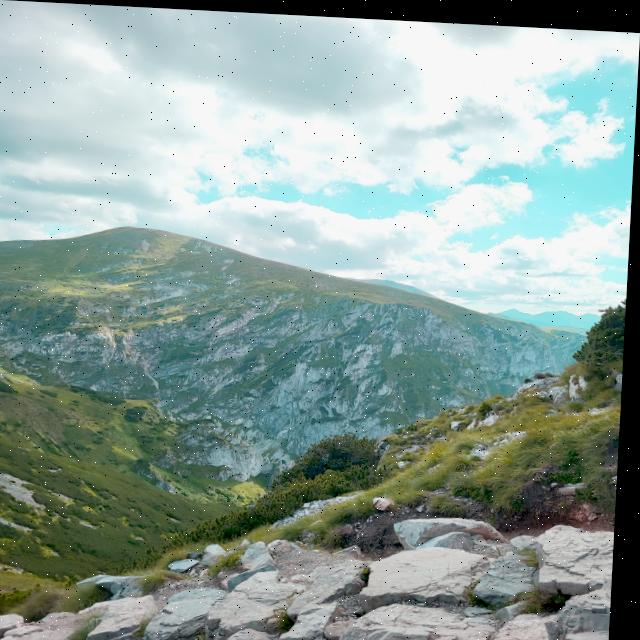Malolaczniak: (0, 124, 291, 332)
